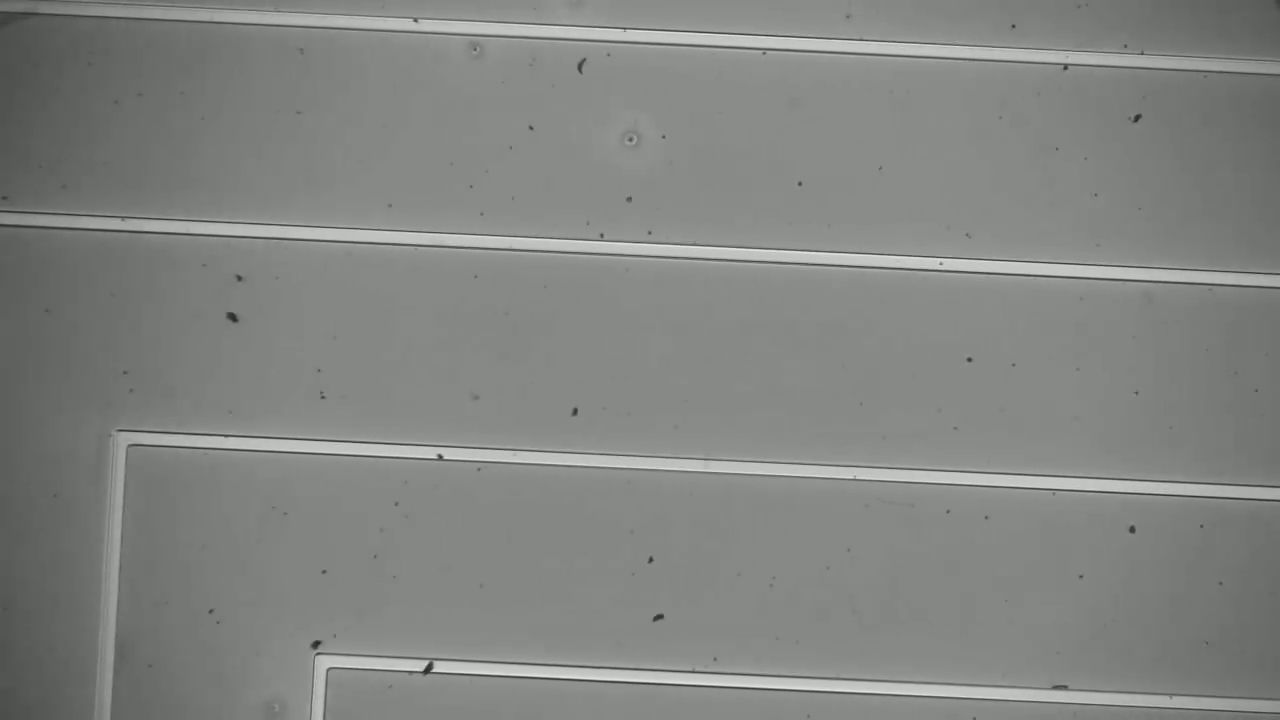stains_enbedded: (413, 651, 441, 681)
